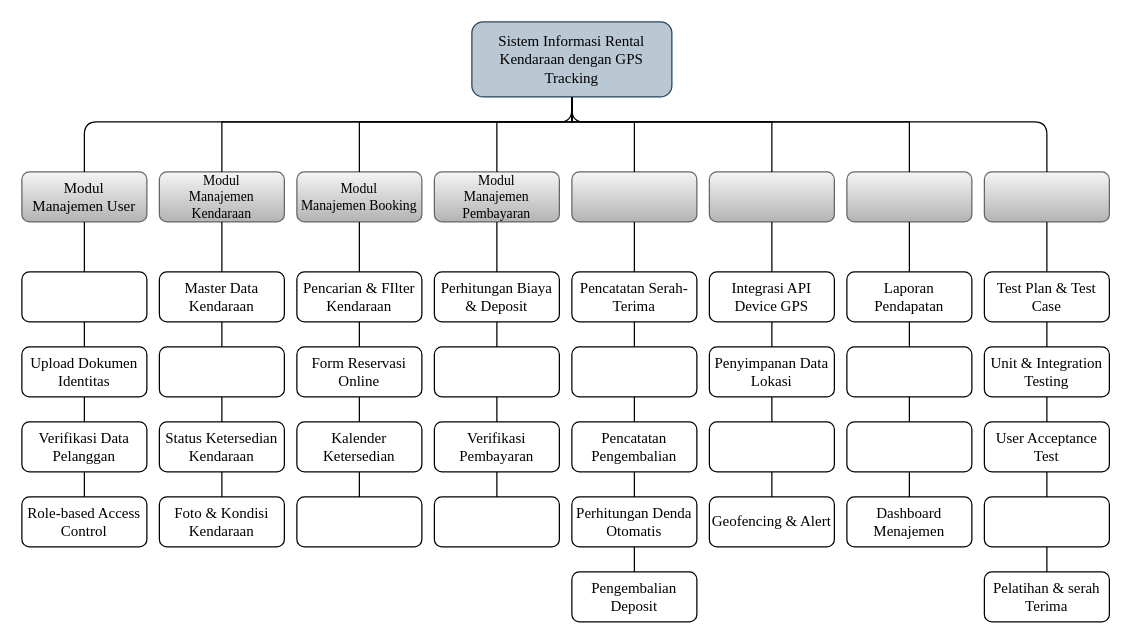
Image size: 1131x644. Some labels were removed from this diagram. Each missing label, with the centre of its shape:
Cetak Invoice: the point at 496,521
Deployment ke Server: the point at 1046,521
Halaman Registrasi & Login: the point at 84,296
Input Kondisi Awal: the point at 634,371
Integrasi Payment Gateway: the point at 496,371
Konfirmasi Booking: the point at 359,521
Laporan Denda: the point at 909,446
Laporan Utilisasi Armada: the point at 909,371
Manajemen Tarif Sewa: the point at 221,371
Modul GPS Tracking: the point at 771,196
Modul Laporan: the point at 909,196
Modul Serah Terima & Pengembalian: the point at 634,196
Pengujian & Deployment: the point at 1046,196
Peta Reak-time Tracking: the point at 771,446
